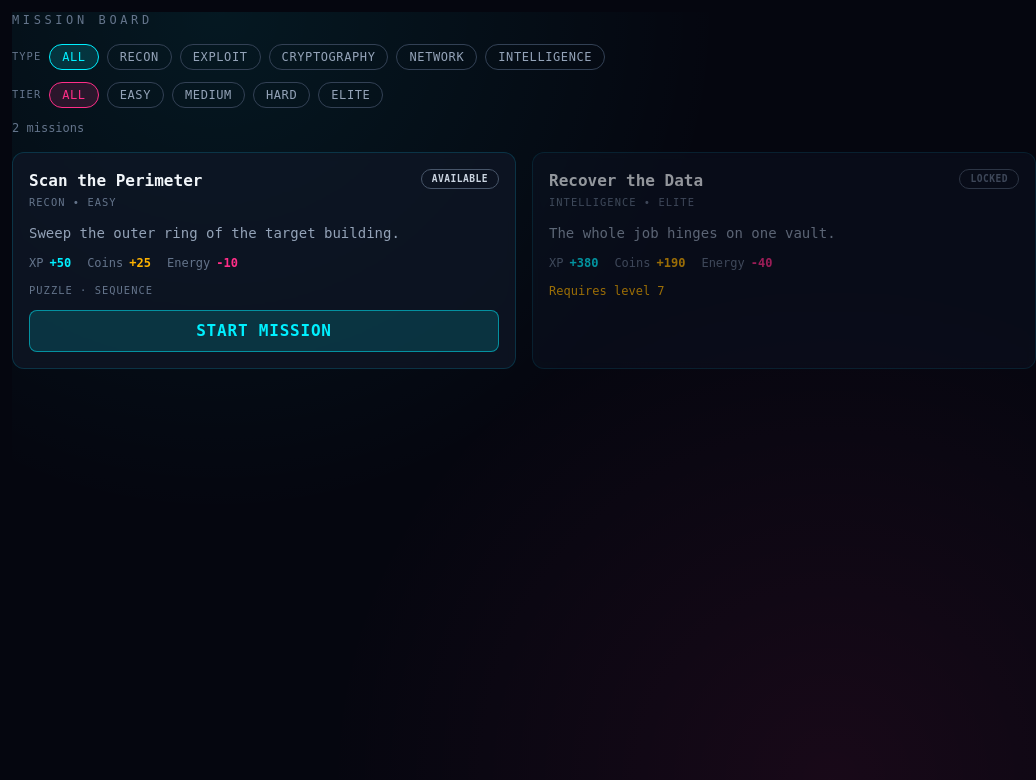
Test: MissionBoard › filters the board by category
Expected: the heading "Scan the Perimeter" is shown, 29,169 -> 202,193
Expected: the text "2 missions" is shown, 12,121 -> 84,135
Step 1. Click the button "RECON" → (139, 57), box 107,44 -> 172,70
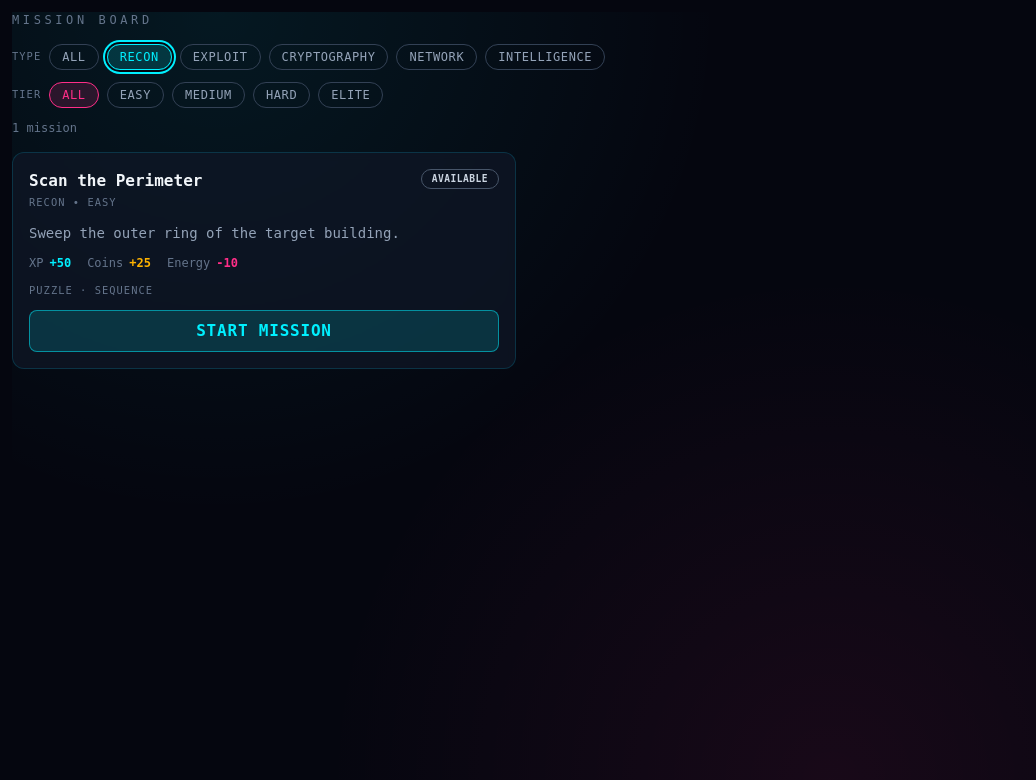
Now the heading "Recover the Data" is gone
Now the text "1 mission" is shown, box 12,121 -> 77,135
